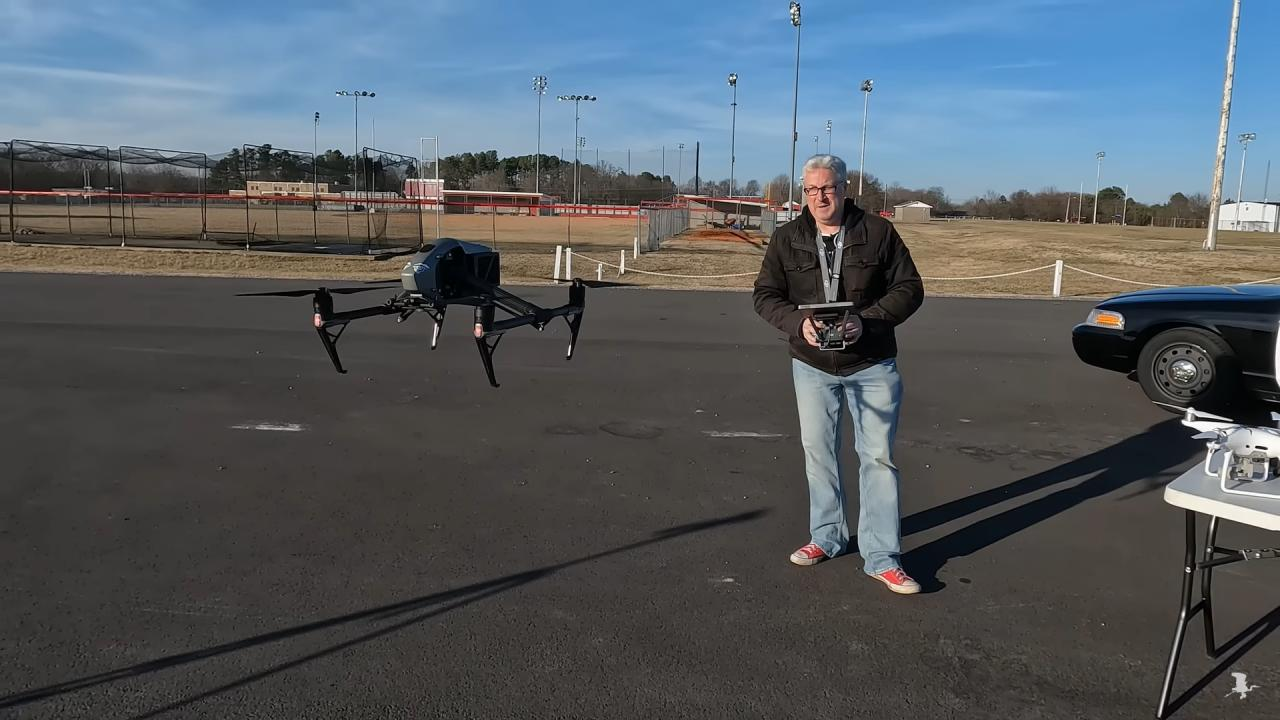Drone: (222, 207, 667, 419)
